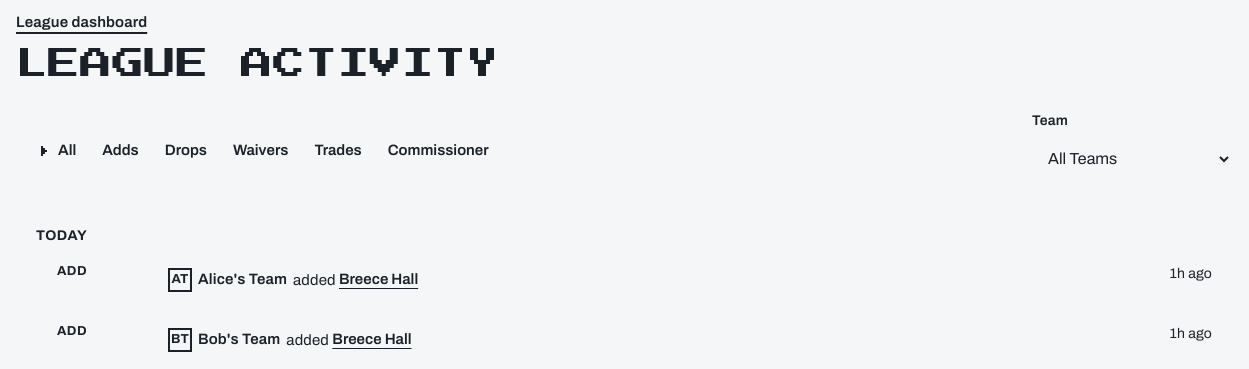
Test: filters rows by team
The width and height of the screenshot is (1249, 369).
Expected: the list item with test id "txn-1" is shown, x1=36 y1=250 x2=1212 y2=310
Select "Bob's Team" in the dropdown labelled "Team" at (1132, 159), box x1=1032 y1=137 x2=1232 y2=181
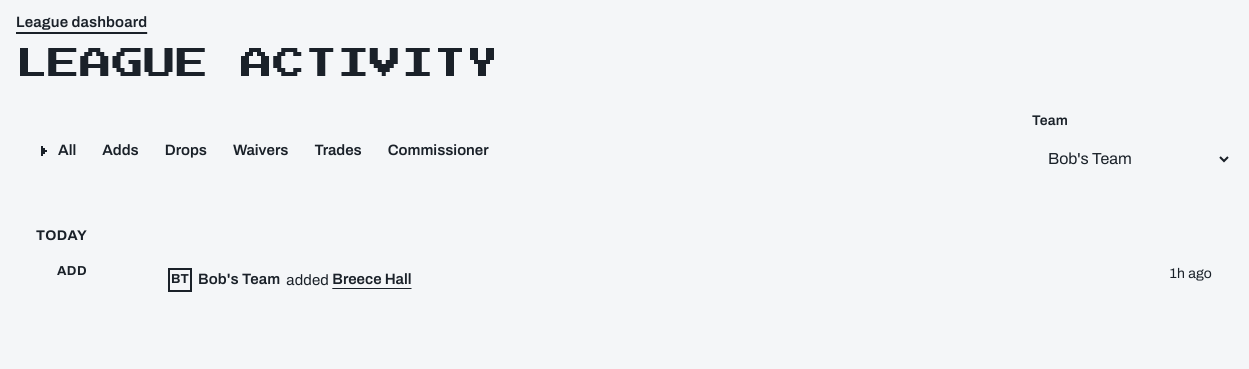
Expected: the list item with test id "txn-2" is shown, x1=36 y1=250 x2=1212 y2=310
Result: the list item with test id "txn-1" is gone
